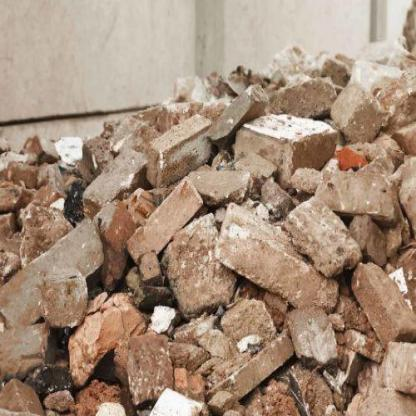brick: (0, 7, 415, 414)
